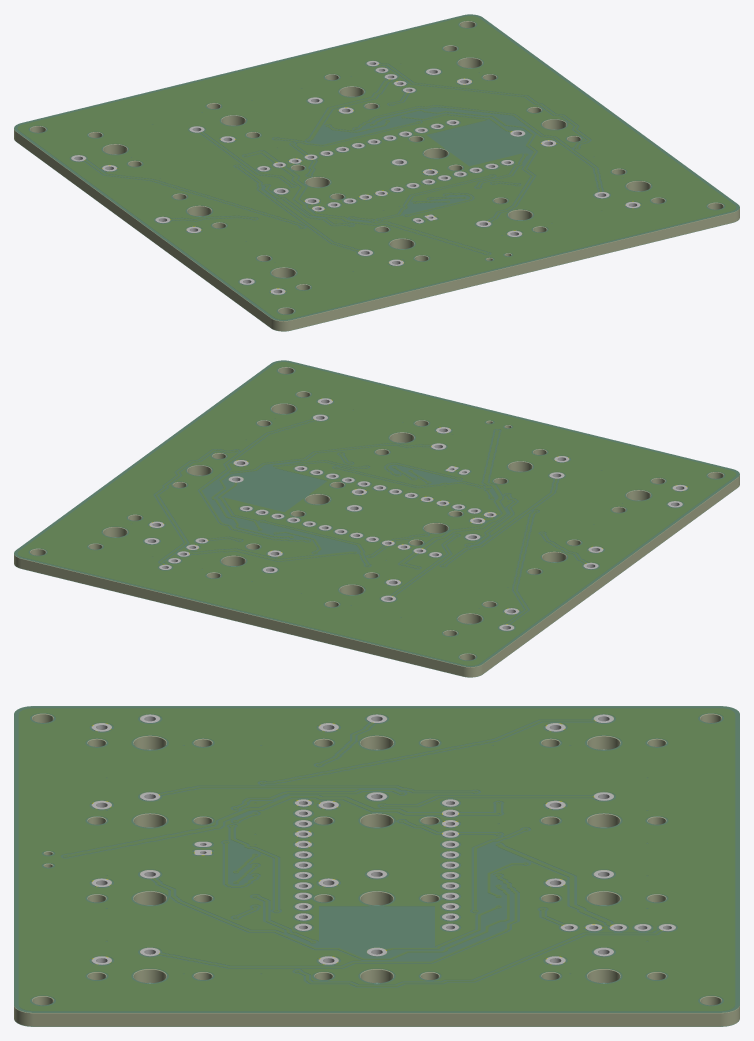
The model's file is board.glb.
3 renders of one model, top to bottom at view 1: azimuth 30°, elevation 25°; view 2: azimuth 150°, elevation 25°; view 3: azimuth 270°, elevation 25°, orthographic. The views are drawn at different scales.
Parts seen in each view (by area): view 1: =>[0:1:1:5], =>[0:1:1:2], =>[0:1:1:7], =>[0:1:1:3], =>[0:1:1:6]; view 2: =>[0:1:1:5], =>[0:1:1:2], =>[0:1:1:7], =>[0:1:1:3], =>[0:1:1:6]; view 3: =>[0:1:1:5], =>[0:1:1:2], =>[0:1:1:7], =>[0:1:1:3], =>[0:1:1:6].
Boxes of the visible parts, x1,y1,x2,y2 form: =>[0:1:1:5]: (14, 14, 739, 321); =>[0:1:1:2]: (18, 16, 735, 319); =>[0:1:1:7]: (14, 15, 739, 331); =>[0:1:1:3]: (71, 61, 639, 294); =>[0:1:1:6]: (14, 67, 739, 331); =>[0:1:1:5]: (14, 360, 739, 667); =>[0:1:1:2]: (18, 362, 735, 665); =>[0:1:1:7]: (14, 361, 739, 677); =>[0:1:1:3]: (144, 398, 687, 630); =>[0:1:1:6]: (14, 413, 739, 677); =>[0:1:1:5]: (14, 706, 739, 1012); =>[0:1:1:2]: (19, 709, 734, 1010); =>[0:1:1:7]: (14, 707, 739, 1026); =>[0:1:1:3]: (92, 714, 675, 964); =>[0:1:1:6]: (14, 749, 739, 1026).
Size of the model in its own units: 0.0752 by 0.00161 by 0.0752.
